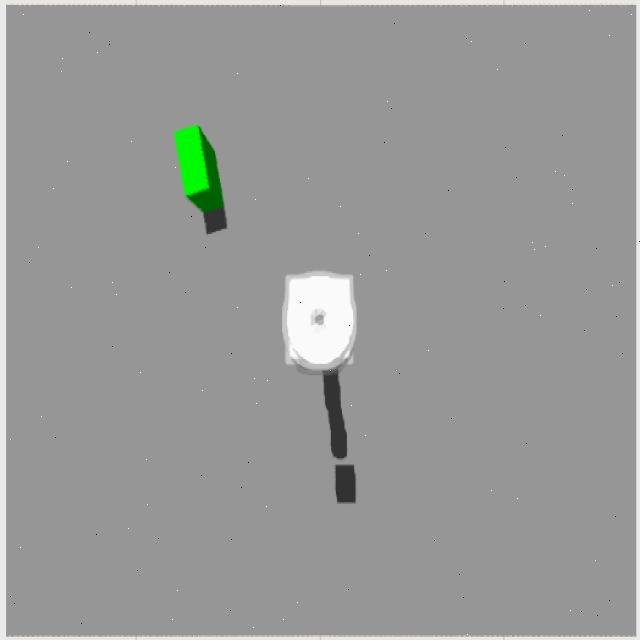box: (176, 127, 227, 232)
